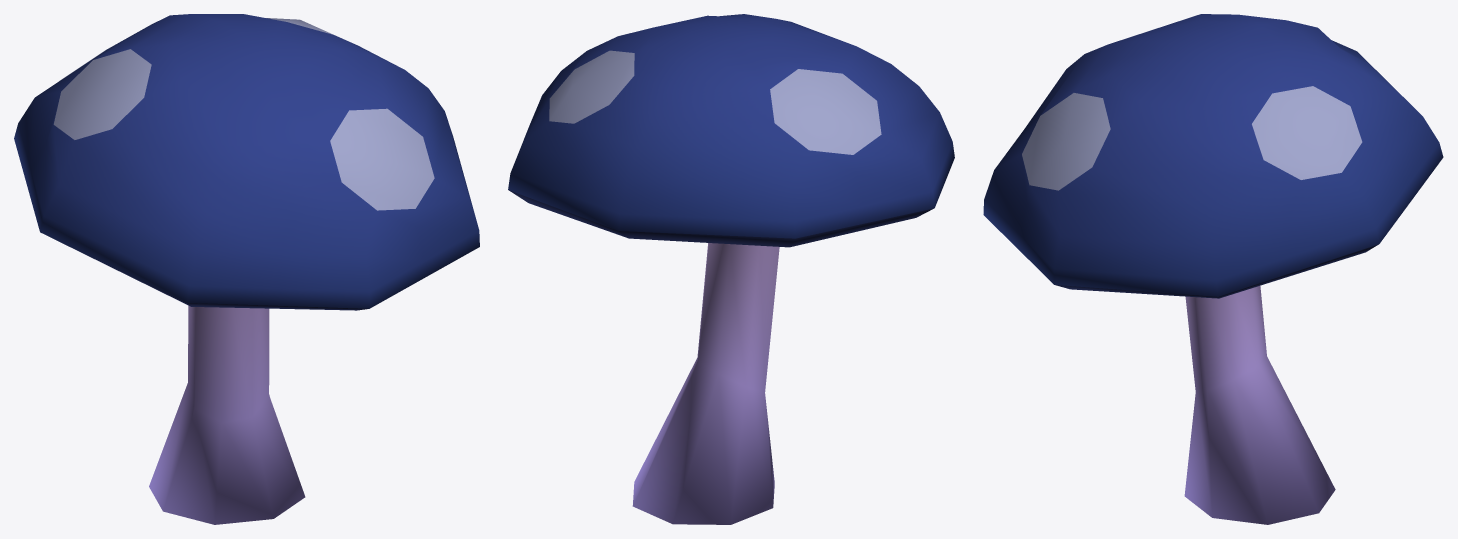
File: BlueShroom1.fbx
3 views of the same model, side by side, from view 1: azimuth 30°, elevation 25°; view 2: azimuth 150°, elevation 25°; view 3: azimuth 270°, elevation 25° (orthographic). The views are drawn at different scales.
Parts seen in each view (by area): view 1: Sphere.101; view 2: Sphere.101; view 3: Sphere.101.
Boxes of the visible parts, box(x1,y1,x2,y2) form: Sphere.101: box(14, 14, 479, 524); Sphere.101: box(508, 14, 954, 524); Sphere.101: box(983, 14, 1443, 524).
Size of the model in its own units: 207 by 205 by 219.
